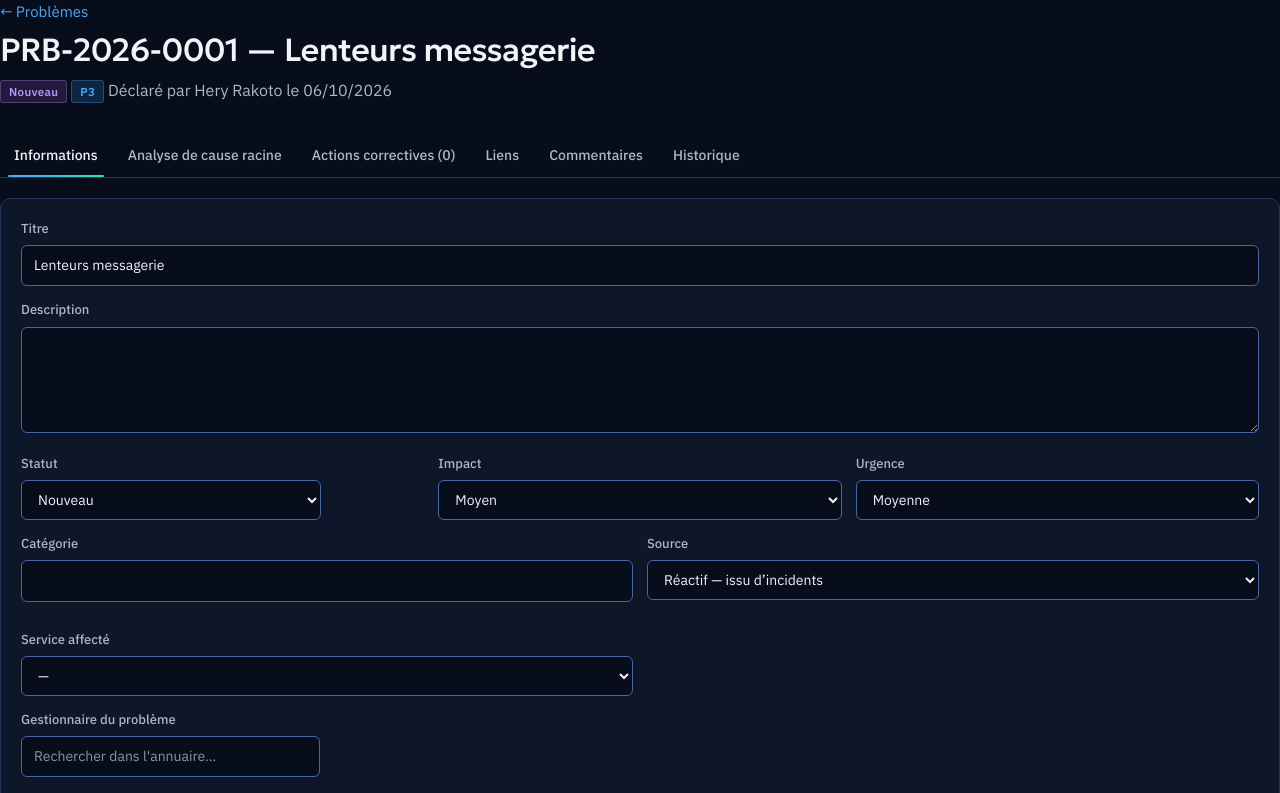
Test: Analyse de cause racine — démarrer une analyse (B1) › « + 5 Pourquoi » ouvre l'éditeur sans planter
Click the tab "Analyse de cause racine": (205, 156) [114, 135, 296, 177]
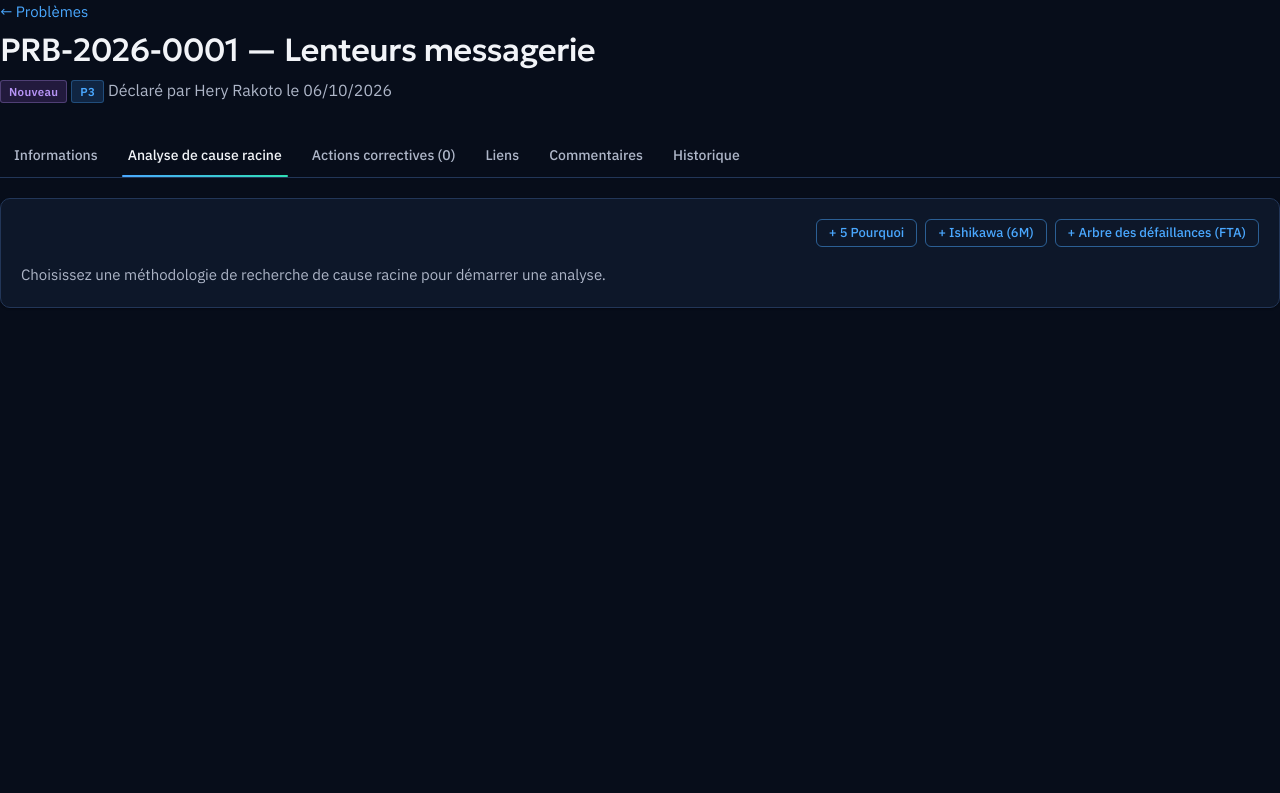
Click the button "+ 5 Pourquoi": (866, 233) [816, 219, 917, 248]
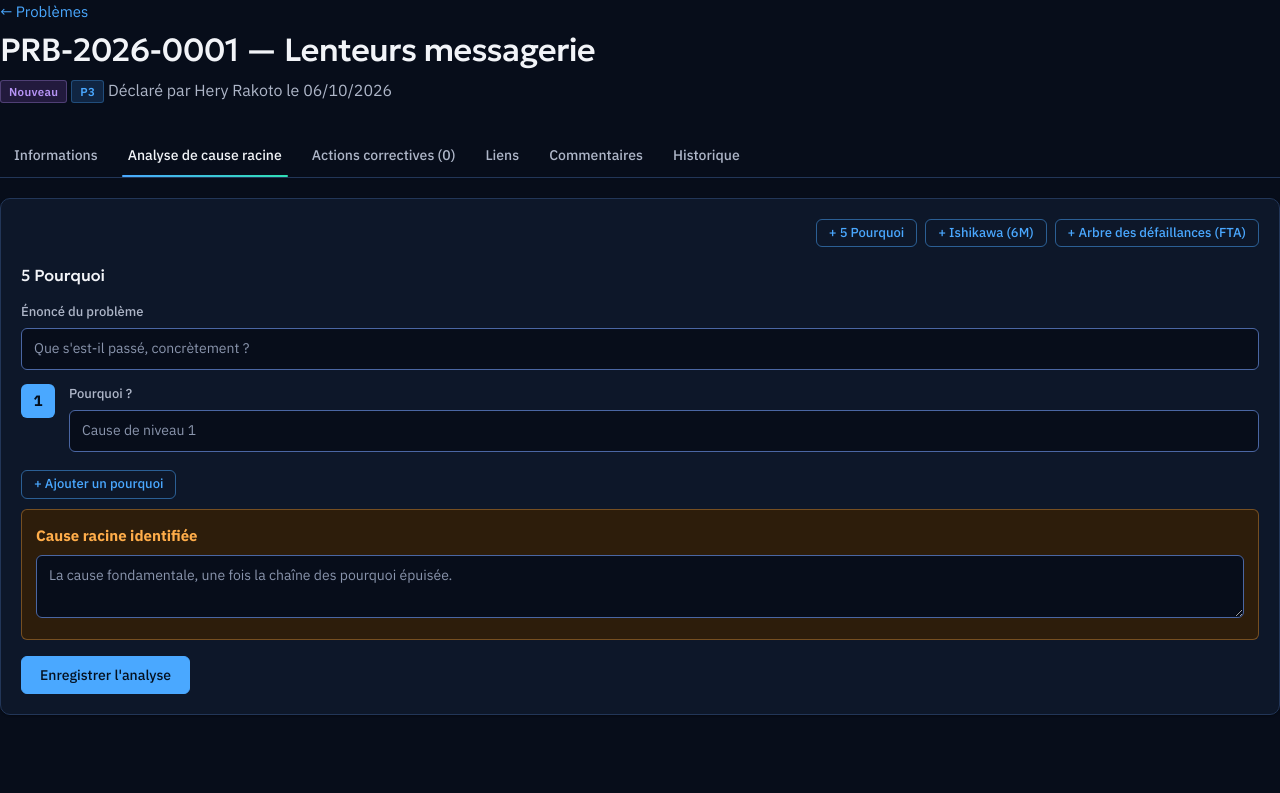
Expected: the text "Énoncé du problème" is shown, [21, 303, 144, 320]
Expected: the button "Enregistrer l'analyse" is shown, [21, 656, 190, 694]
